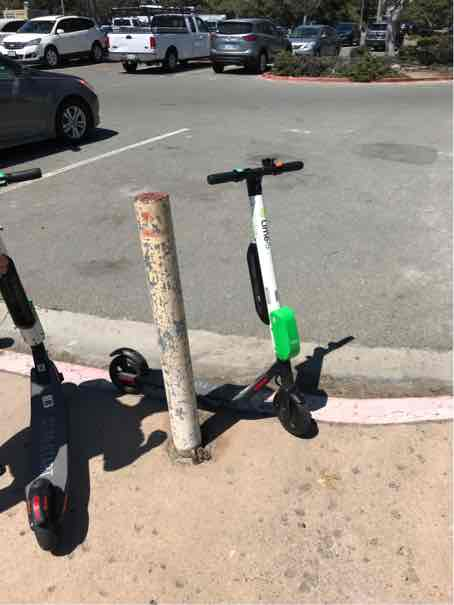scooter: (167, 147, 326, 447)
